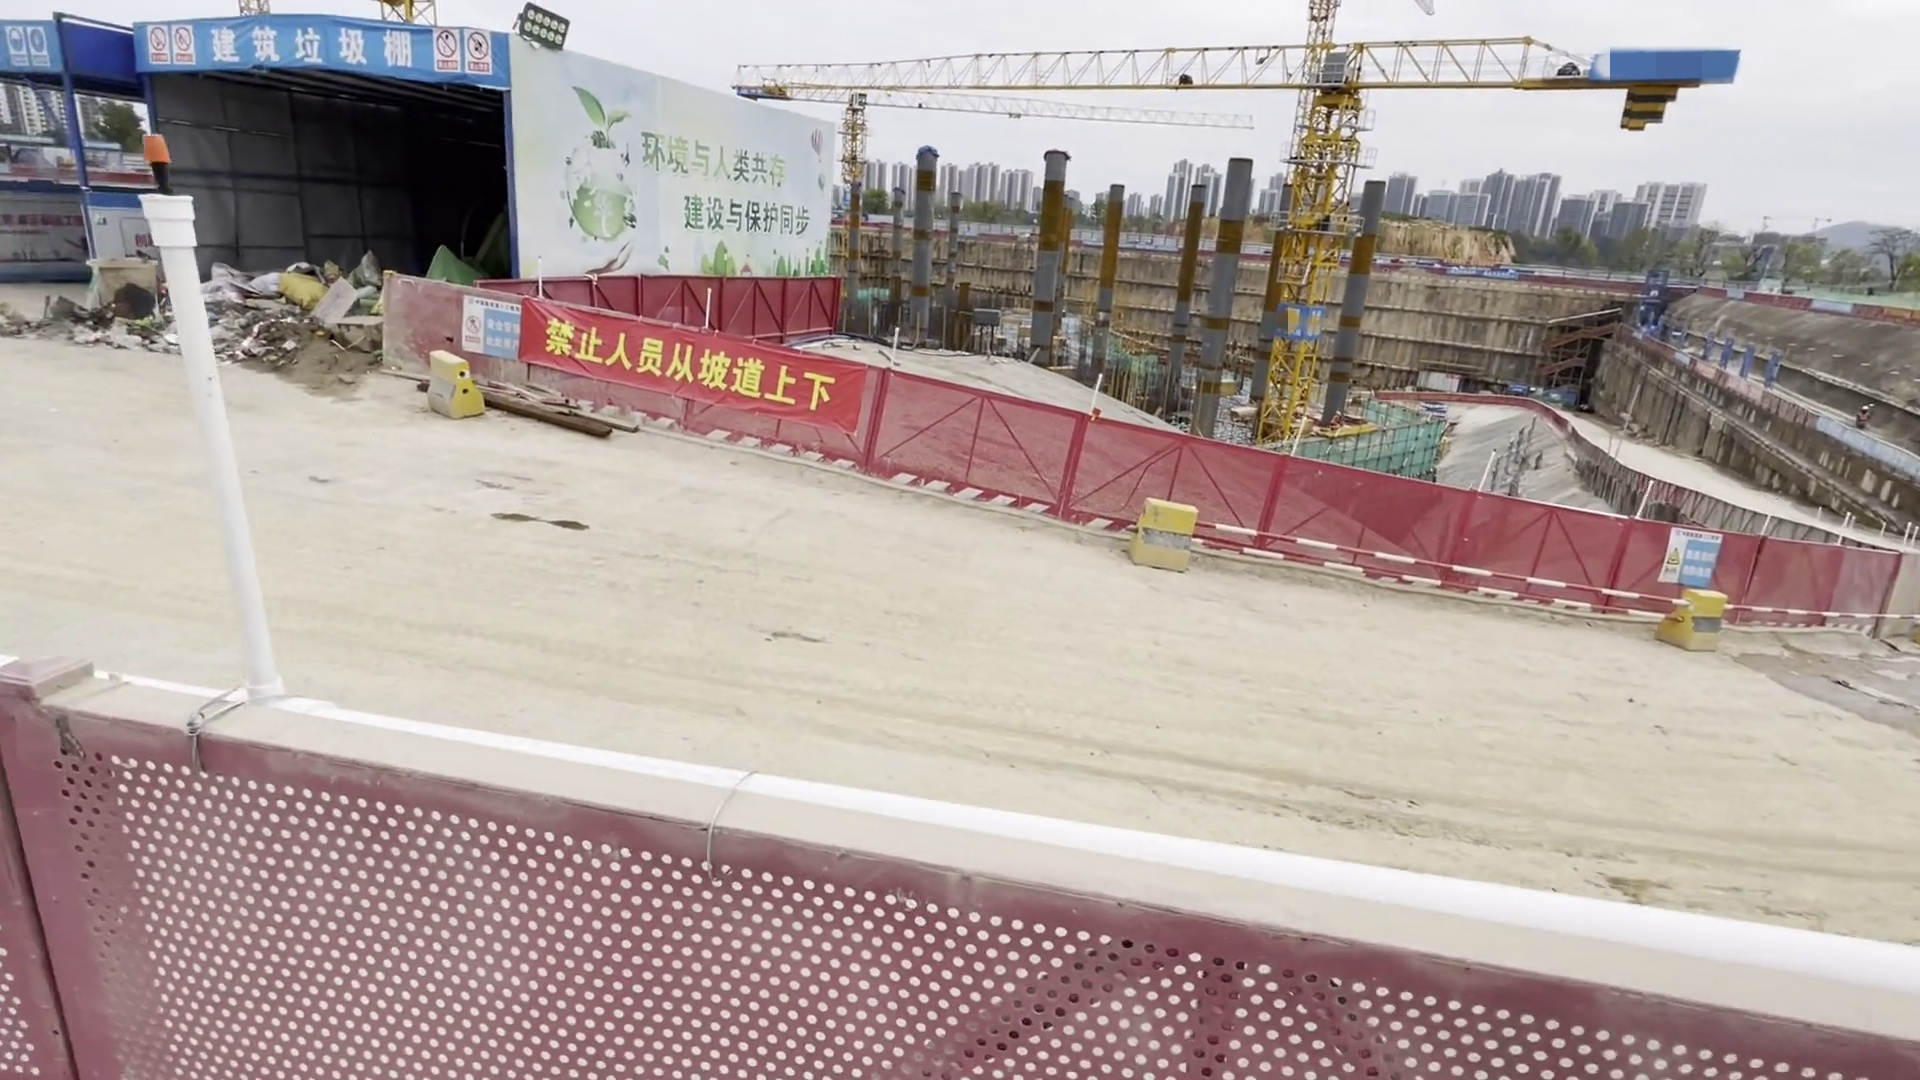slogan: (538, 94, 822, 276), (512, 301, 852, 435)
